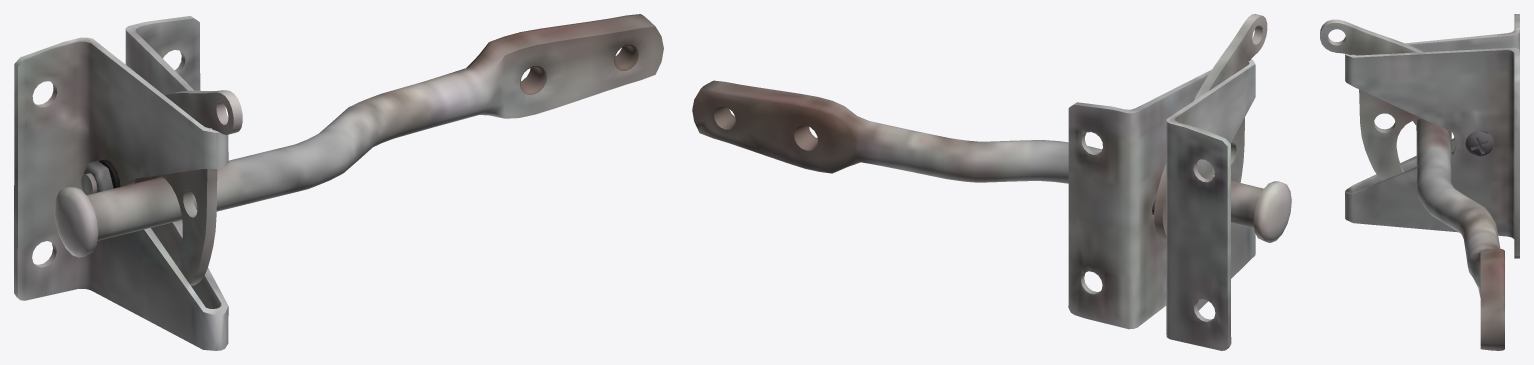
The picture shows the model from 3 angles, left to right: view 1: azimuth 30°, elevation 25°; view 2: azimuth 150°, elevation 25°; view 3: azimuth 270°, elevation 25°; orthographic projection. The views are drawn at different scales.
Visible parts, largest first — view 1: gate_latch_01_frame, gate_latch_01_latch, gate_latch_01_hook; view 2: gate_latch_01_frame, gate_latch_01_latch, gate_latch_01_hook; view 3: gate_latch_01_frame, gate_latch_01_latch, gate_latch_01_hook.
Boxes of the visible parts, x1,y1,x2,y2 form: gate_latch_01_frame: (14, 16, 228, 350); gate_latch_01_latch: (54, 14, 663, 257); gate_latch_01_hook: (134, 90, 242, 285); gate_latch_01_frame: (1068, 59, 1255, 350); gate_latch_01_latch: (692, 80, 1291, 242); gate_latch_01_hook: (1154, 14, 1267, 240); gate_latch_01_frame: (1345, 14, 1519, 258); gate_latch_01_latch: (1413, 118, 1504, 350); gate_latch_01_hook: (1320, 19, 1423, 180).
Size of the model in its own units: 0.2051 by 0.0854 by 0.0747.
Materials: 1 (1 with a texture image).
